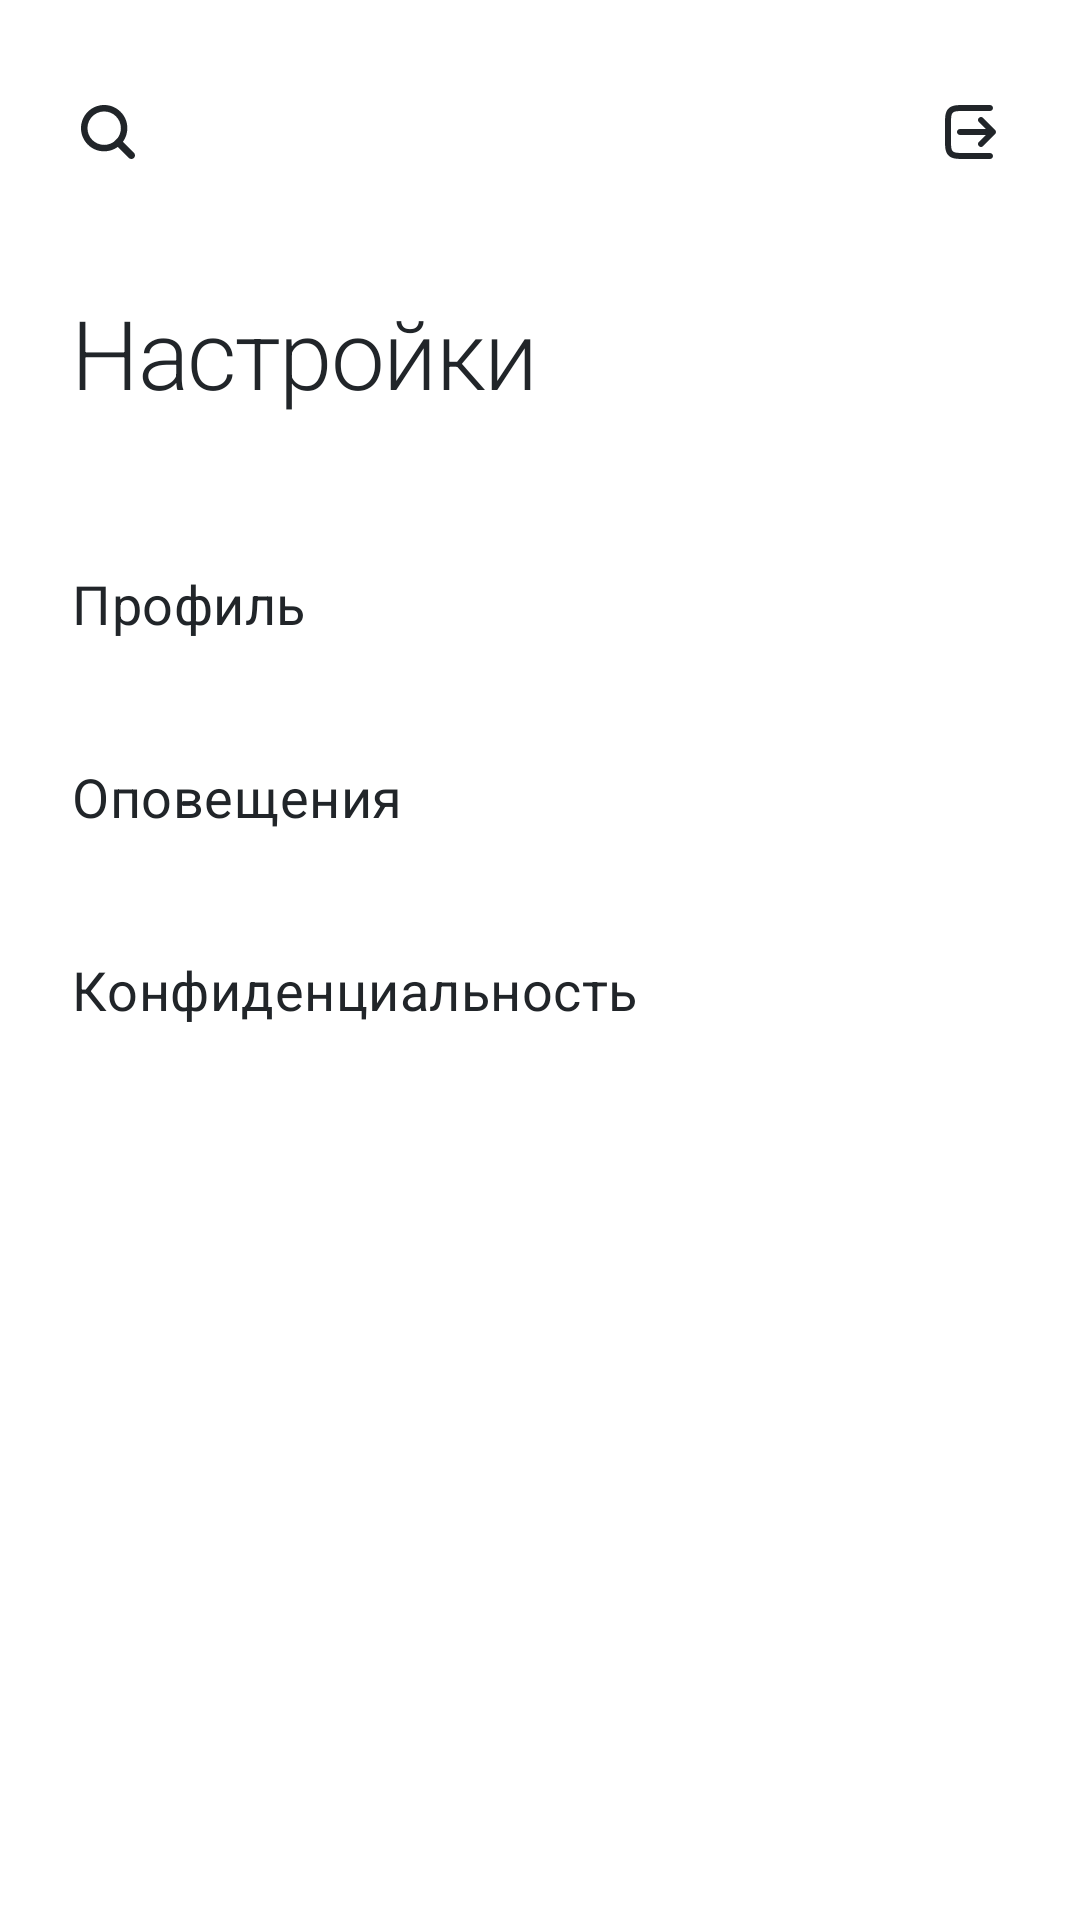

Icon click points for this 1080×1920 phone screenshot, format point (x, y):
search: point (108, 132)
